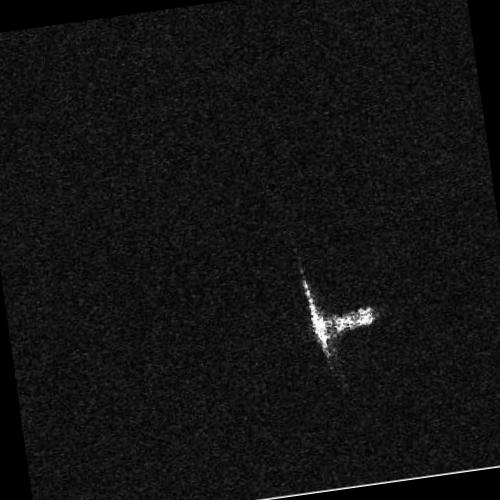ship: (311, 305, 377, 342)
